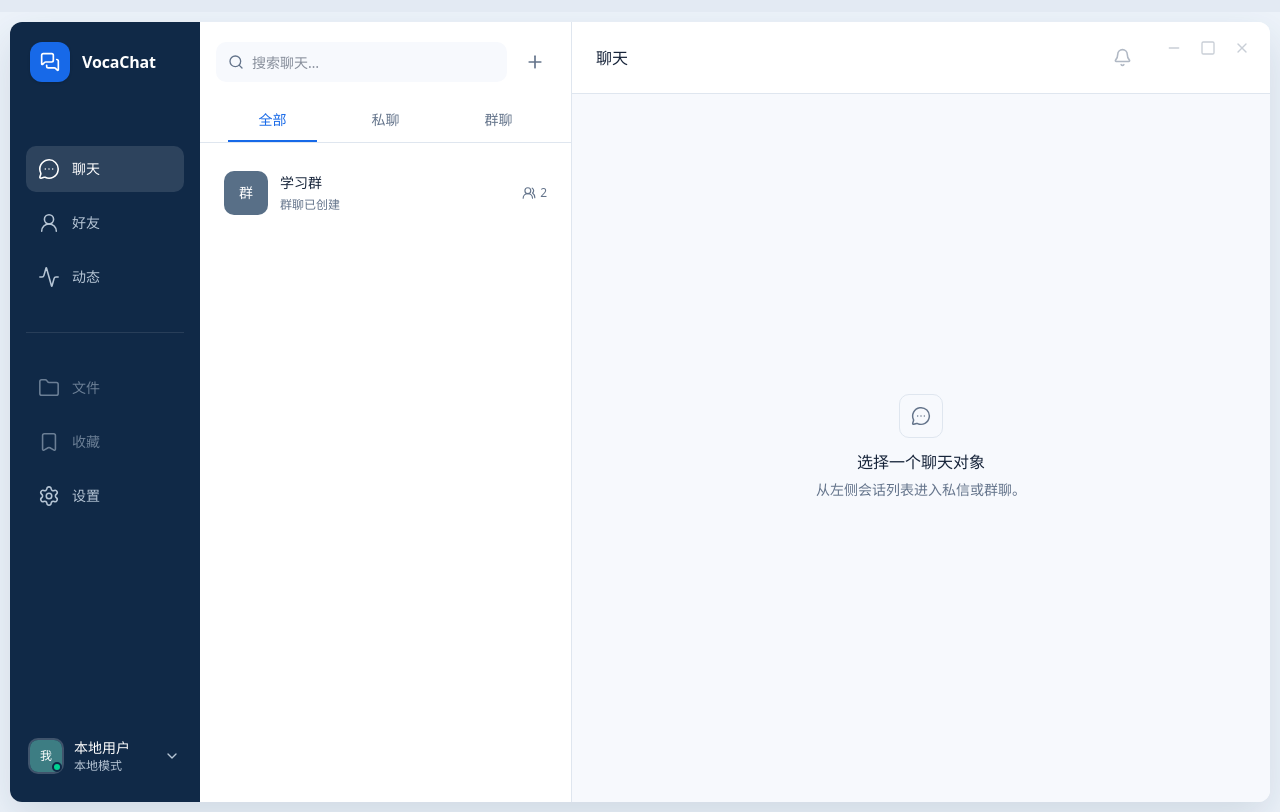
Test: VocaChatApp › 设置存在未保存更改时先确认再离开
This screenshot has width=1280, height=812.
Click the button "设置": (105, 496) x1=26 y1=473 x2=184 y2=519
(page scrolled)
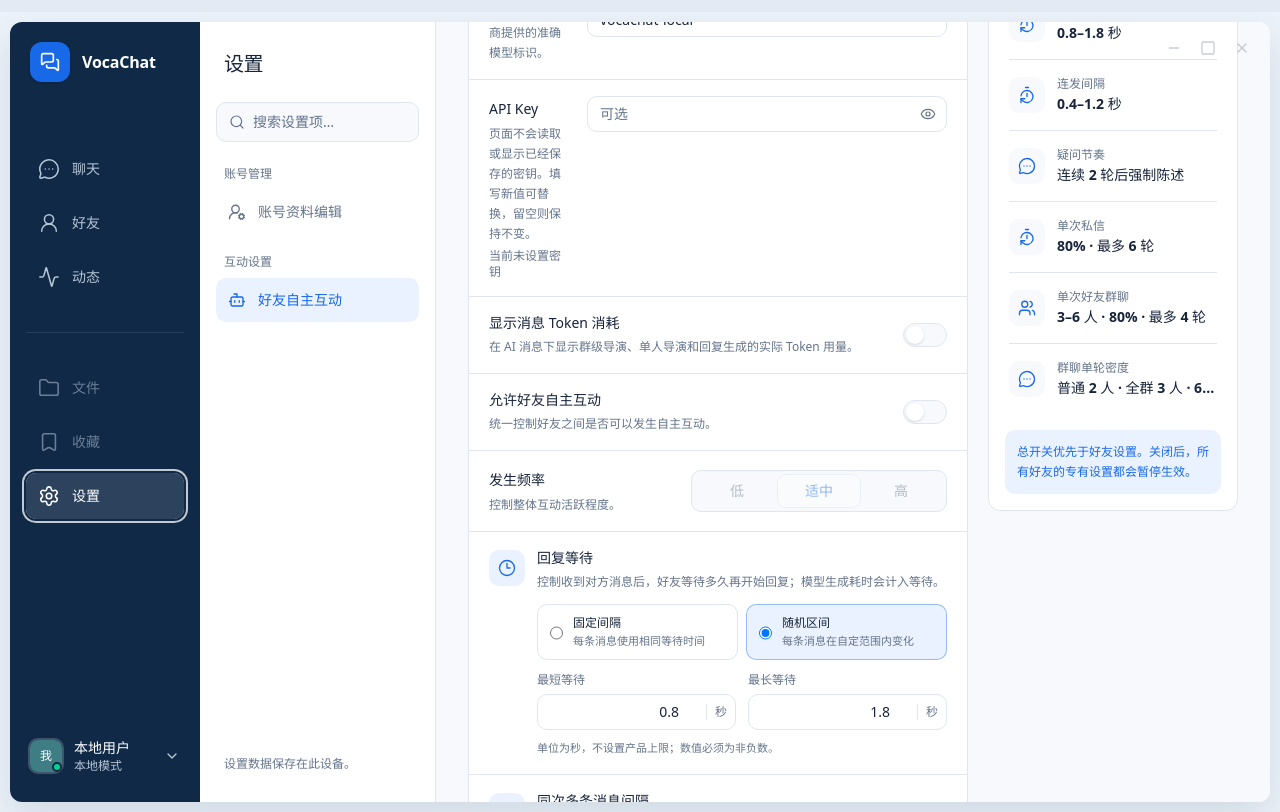
Click the switch named "允许好友自主互动" in the row of "统一控制好友之间是否可以发生自主互动。": (925, 412) x1=903 y1=400 x2=947 y2=424
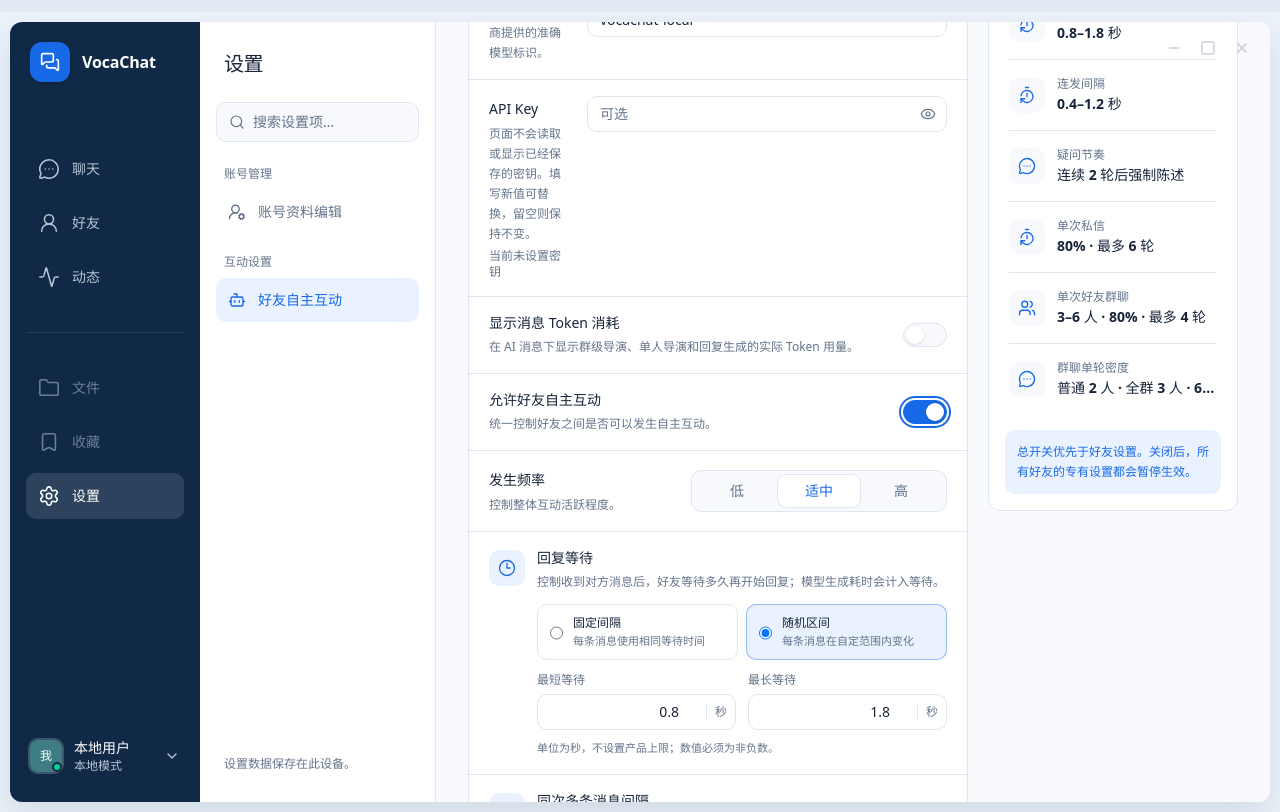
Click the button "聊天": (105, 169) x1=26 y1=146 x2=184 y2=192
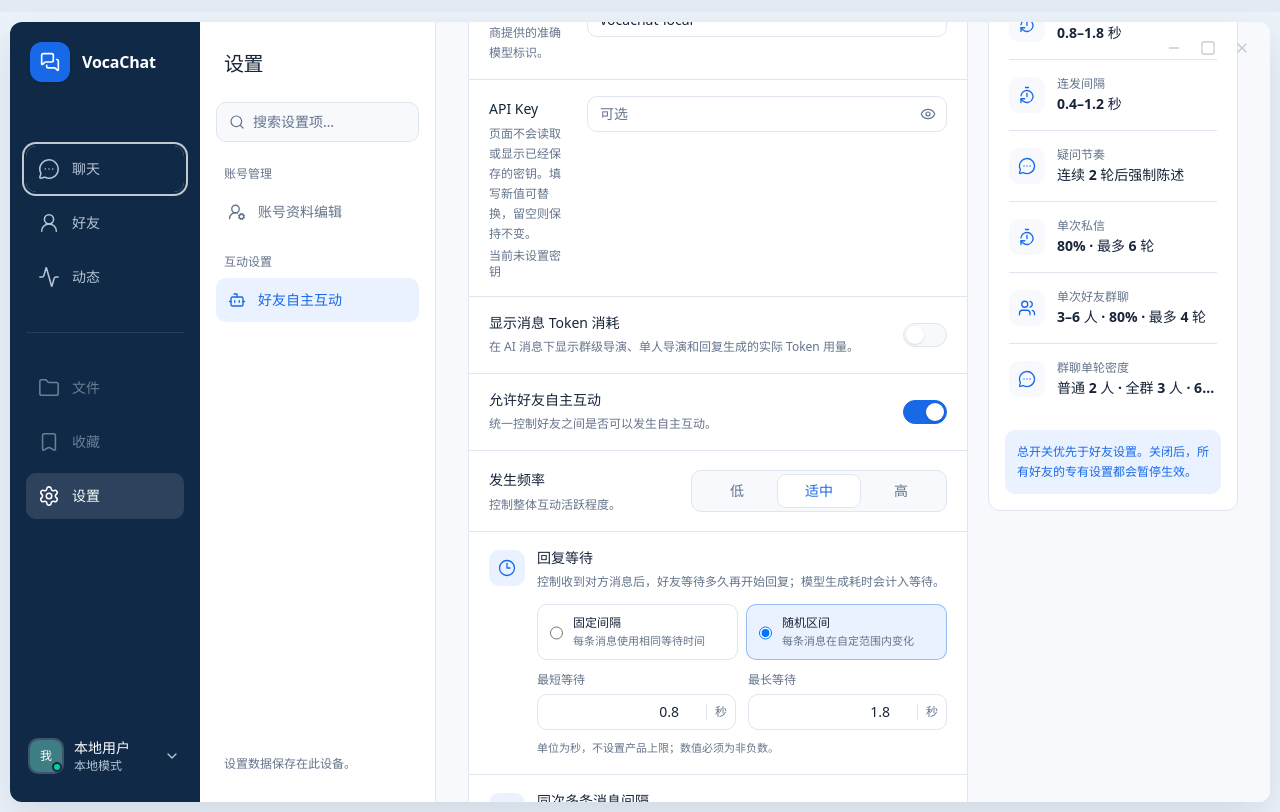
Click the button "聊天": (105, 169) x1=26 y1=146 x2=184 y2=192
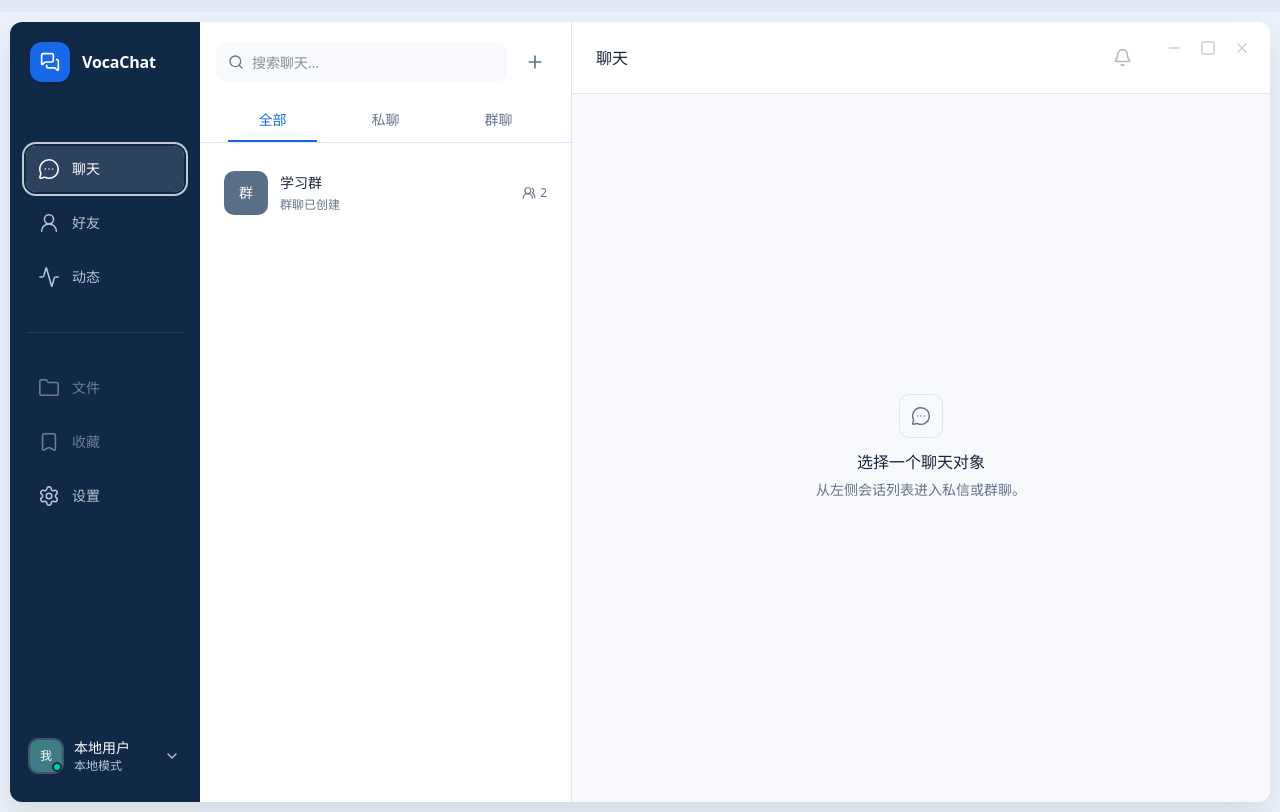
Expected: the element named "会话列表" is shown, x1=200 y1=22 x2=571 y2=227
